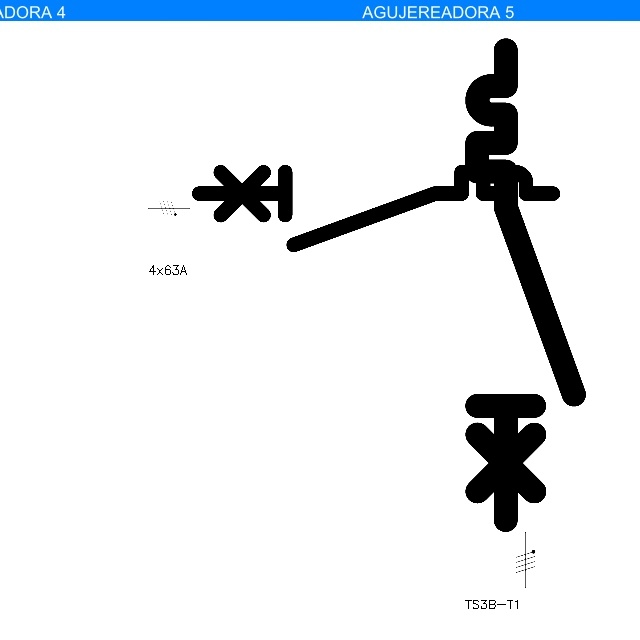interruptor_termomagnetico: (465, 38, 586, 532), (190, 163, 562, 254)
